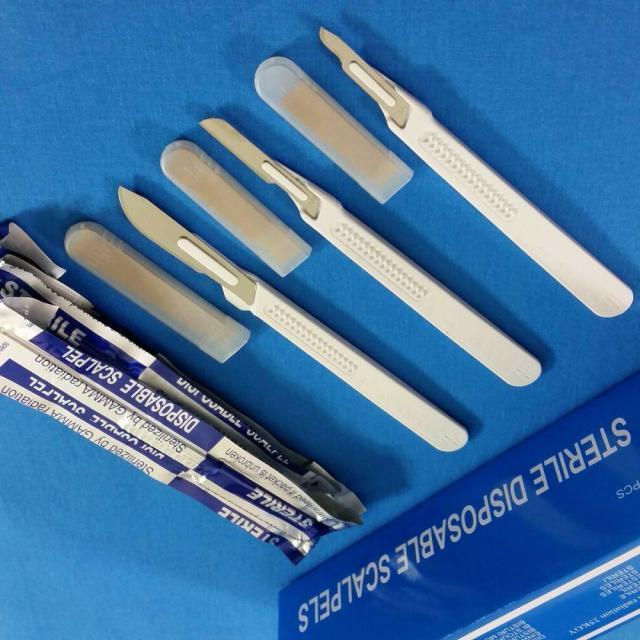Scalpel: (114, 180, 472, 456), (196, 109, 546, 391), (314, 21, 637, 325)
